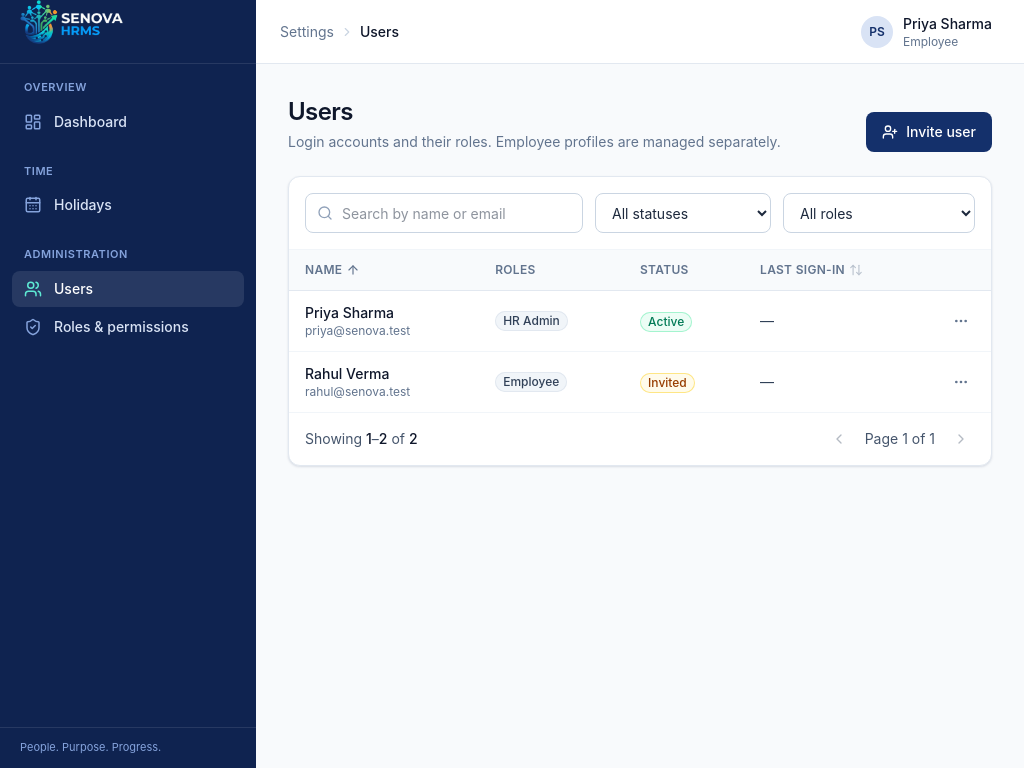
Test: users page › invites a user: validates, sends allowlisted fields, hides super admin from non-super-admins
Step 1. Click the button "Invite user" → [929, 132], box [866, 112, 992, 152]
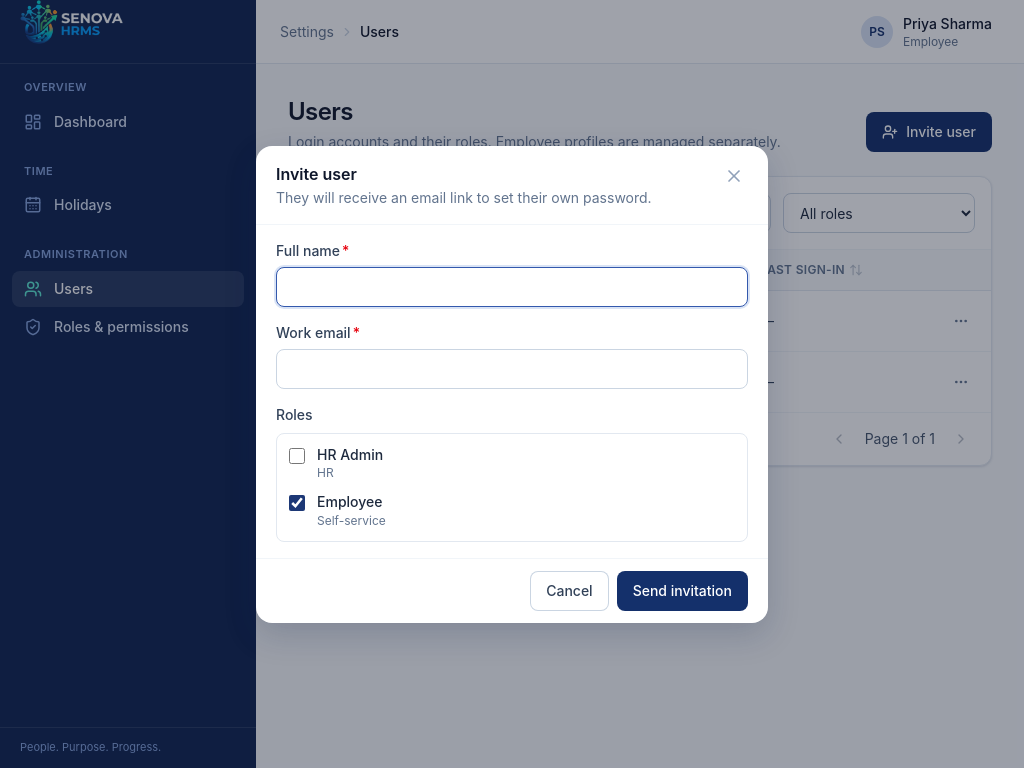
Step 2. Click the button "Send invitation" → [682, 590], box [617, 570, 748, 610]
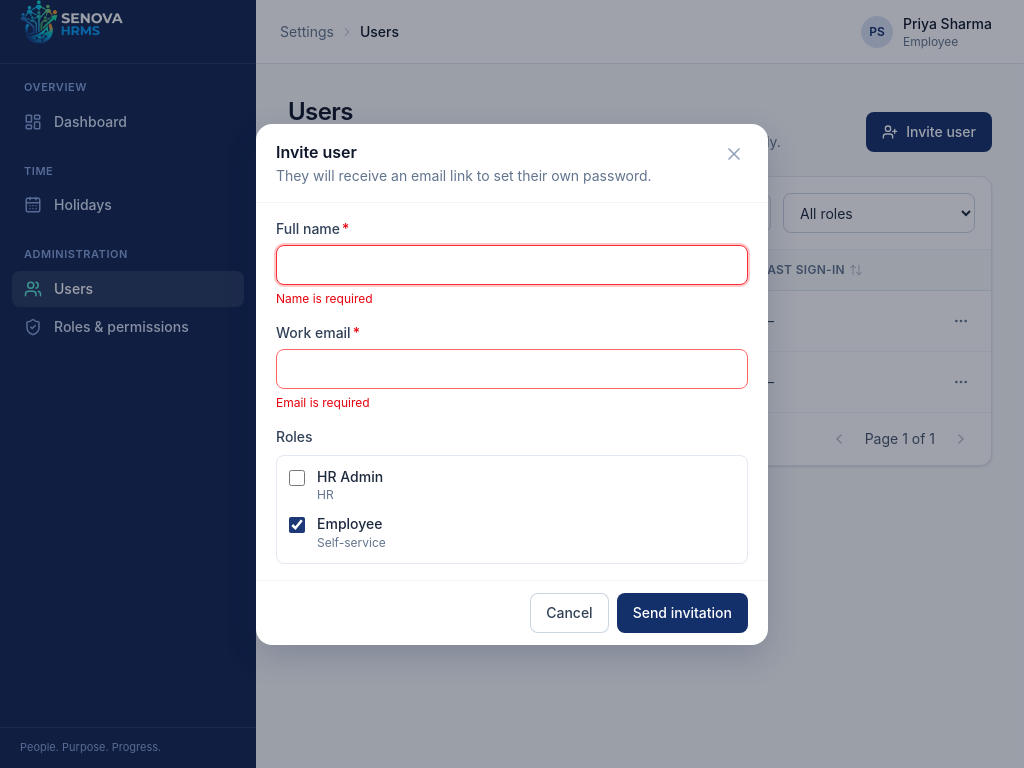
Now the text "Name is required" is shown, box [276, 290, 373, 306]
Step 3. Type "Anita Desai" into the field labelled "Full name*" → [512, 264], box [276, 244, 748, 284]
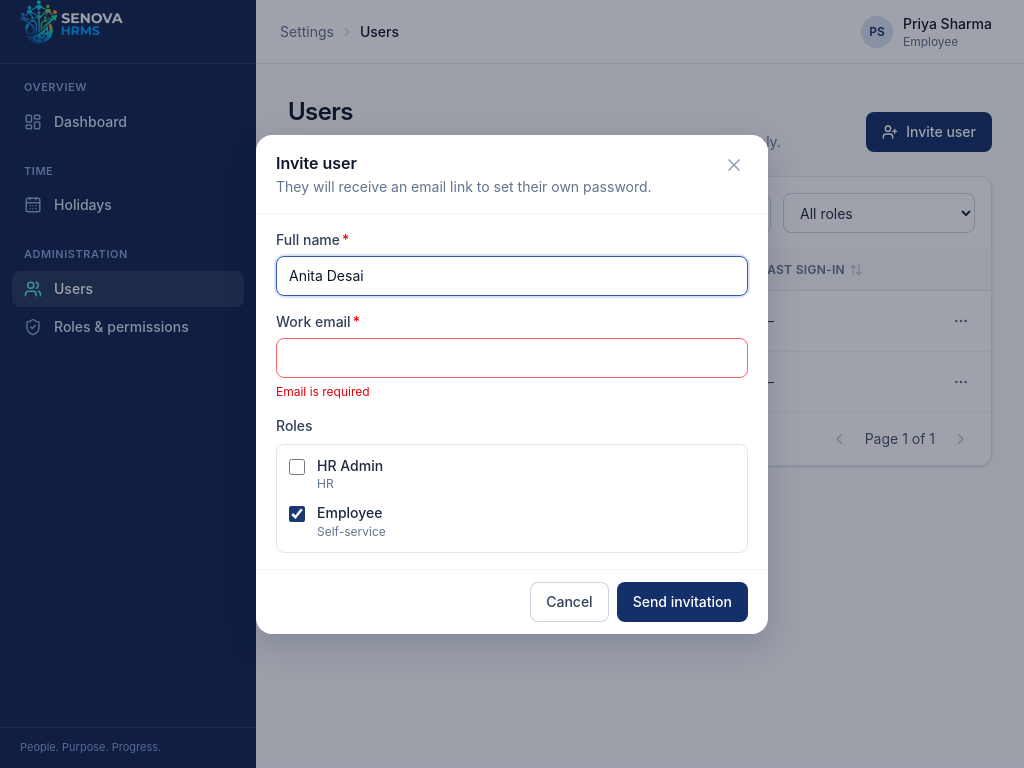
Step 4. Type "anita@senova.test" into the field labelled "Work email*" → [512, 358], box [276, 338, 748, 378]
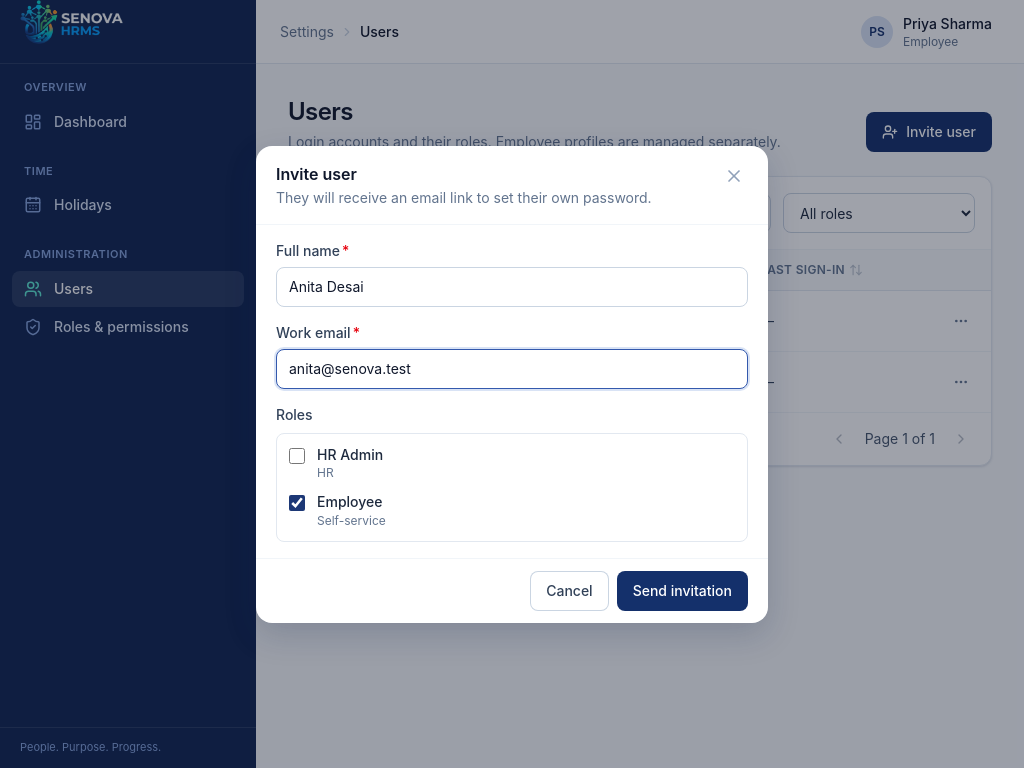
Step 5. Click the checkbox labelled "HR Admin HR" → [297, 456], box [289, 448, 305, 464]
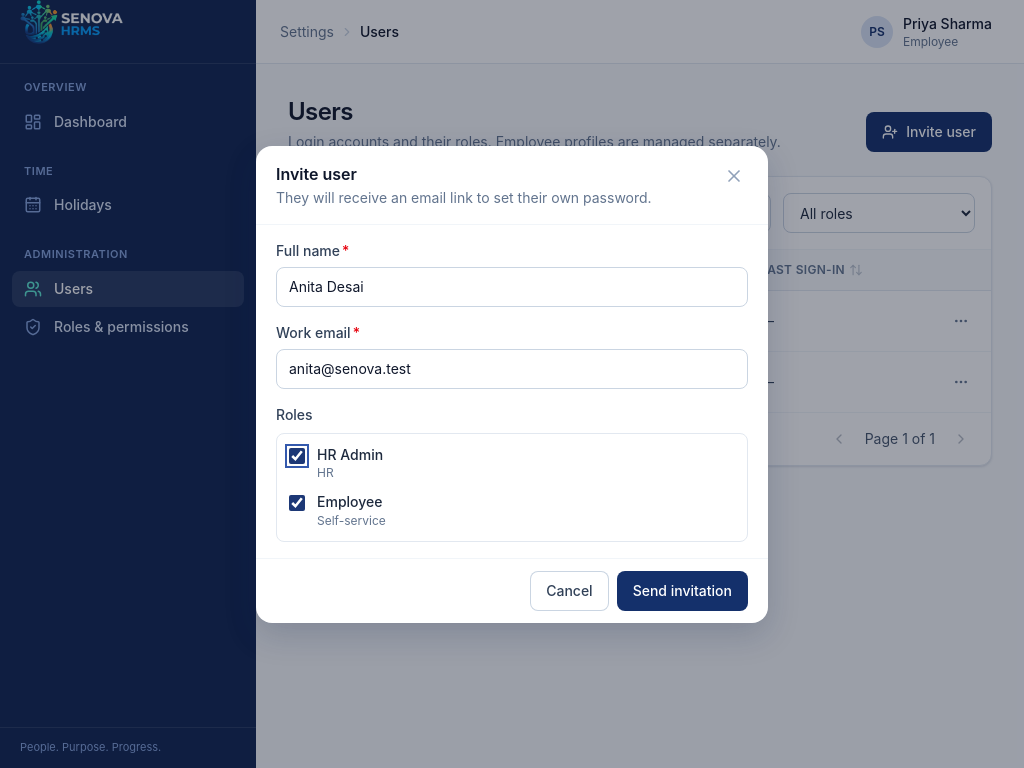
Step 6. Click the button "Send invitation" → [682, 590], box [617, 570, 748, 610]
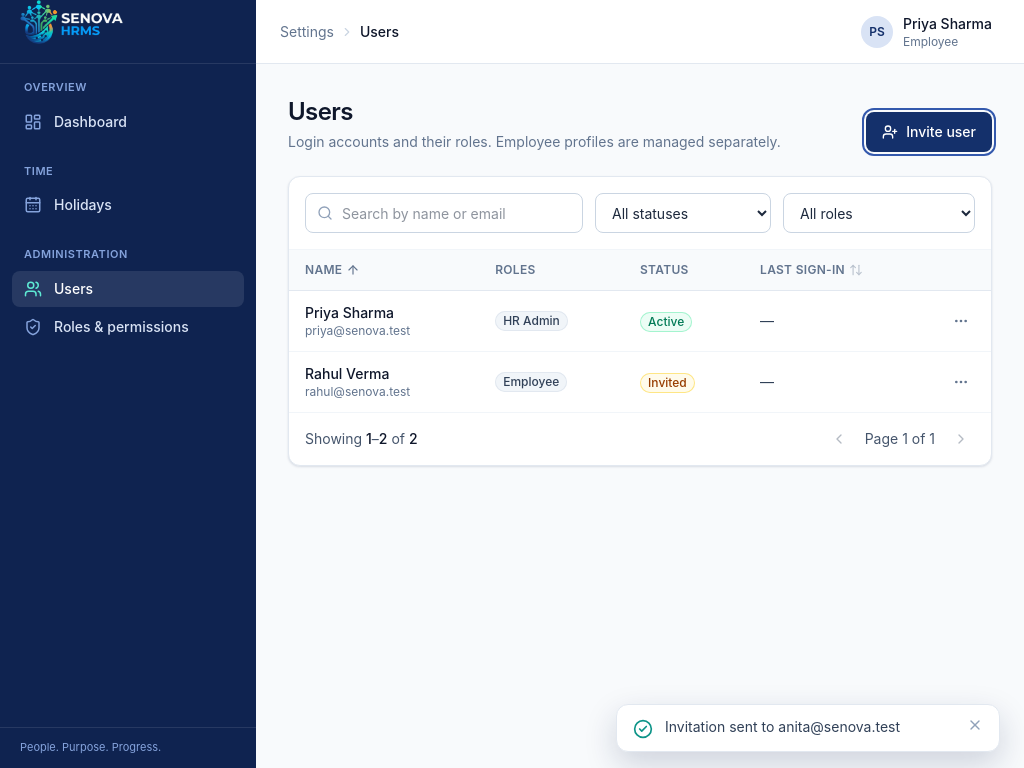
Now the text "Invitation sent to anita@senova.test" is shown, box [665, 718, 900, 735]
